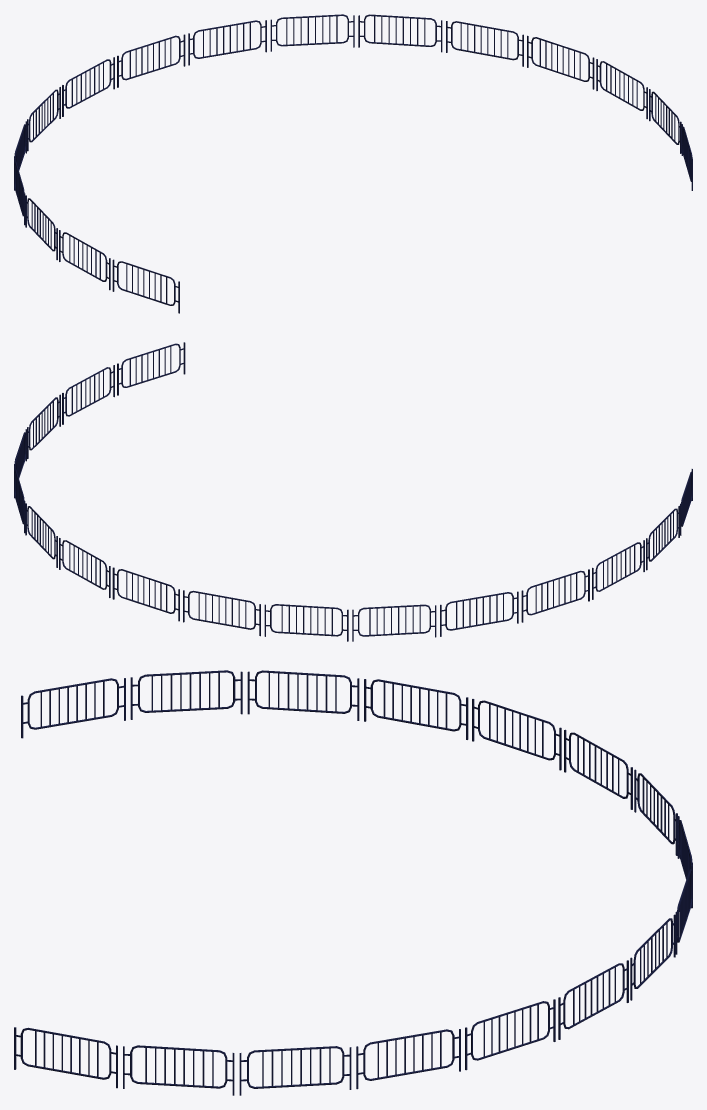
The model's file is SM_fence_round.fbx.
3 renders of one model, top to bottom at view 1: azimuth 30°, elevation 25°; view 2: azimuth 150°, elevation 25°; view 3: azimuth 270°, elevation 25°, orthographic. The views are drawn at different scales.
Parts seen in each view (by area): view 1: Line030; view 2: Line030; view 3: Line030.
Boxes of the visible parts, x1=… form: Line030: x1=14, y1=14, x2=692, y2=313; Line030: x1=14, y1=342, x2=692, y2=641; Line030: x1=14, y1=670, x2=692, y2=1095.
Bounding box in the file's own units: 740 × 39.82 × 556.
